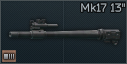FN SCAR-H 7.62x51 13 inch barrel: (0, 0, 127, 64)
